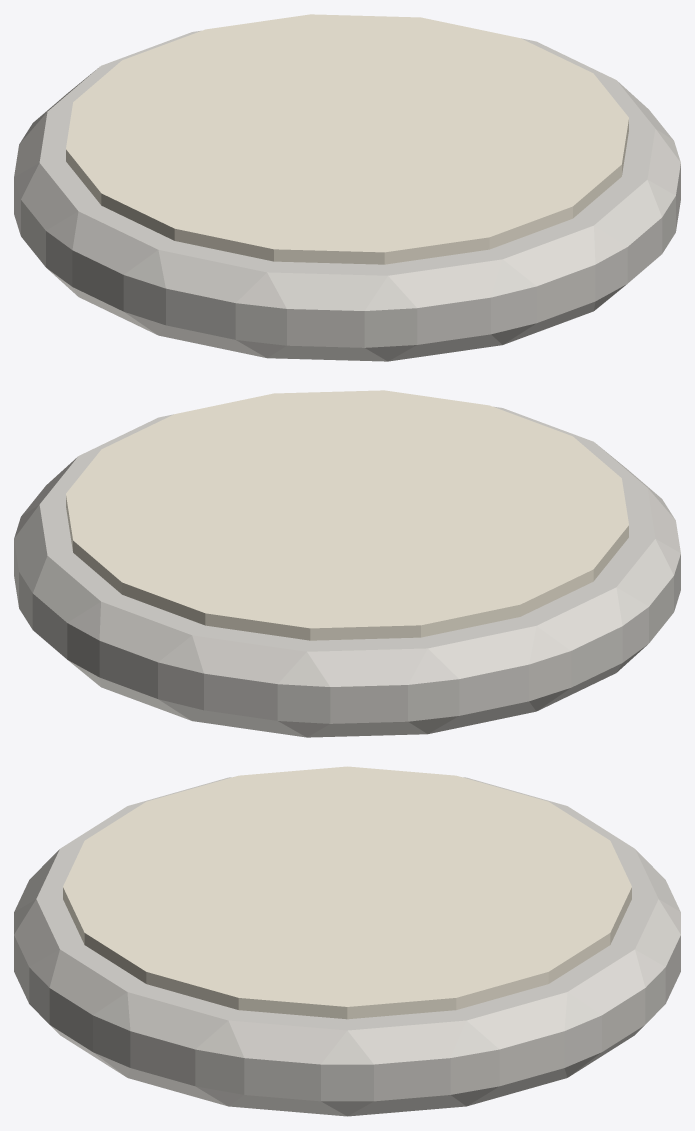
Rendered from dealer_button.glb.
3 views of the same model, one above another, from view 1: azimuth 30°, elevation 25°; view 2: azimuth 150°, elevation 25°; view 3: azimuth 270°, elevation 25° (orthographic).
Visible parts, largest first — view 1: dealer_button; view 2: dealer_button; view 3: dealer_button.
Part boxes in pixels (box(x1,y1,x2,y2)): dealer_button: box(14, 14, 680, 361); dealer_button: box(14, 390, 680, 737); dealer_button: box(14, 766, 680, 1116).
Size of the model in its own units: 0.0984 by 0.016 by 0.0984.
